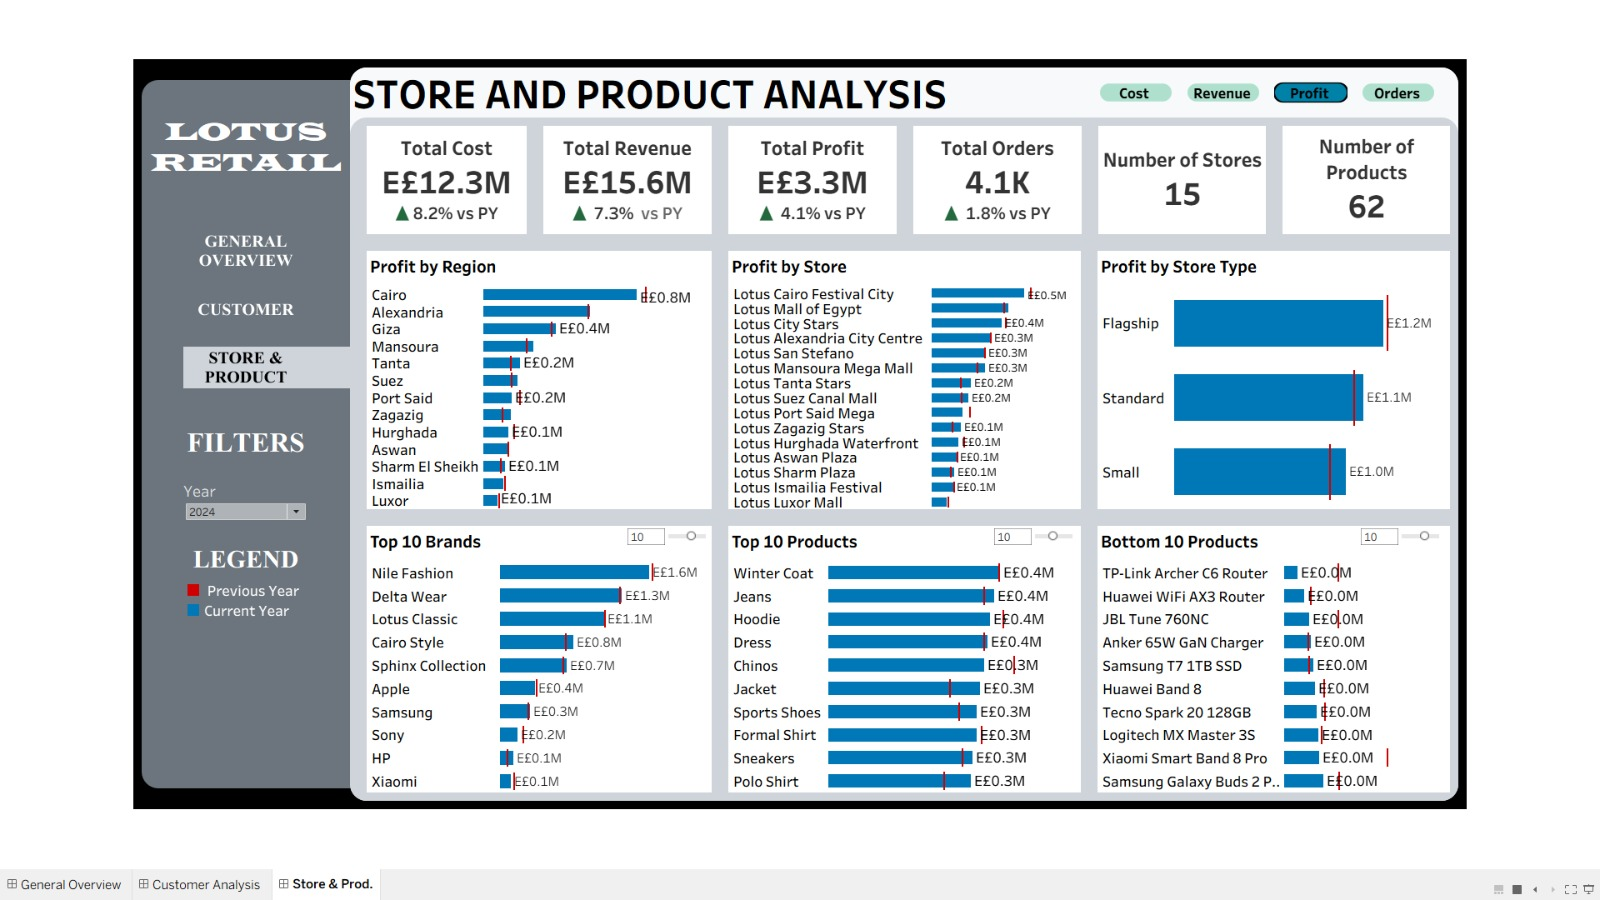

This screenshot's page, from the dashboard's own definition file:
{"tool":"tableau","page":{"name":"Store & Prod.","canvas":[1600,900],"ordinal":2},"visuals":[{"type":"text","box":[260,10,890,60]},{"type":"worksheet","title":"Buttons","mark":"Shape","cols":["Calculation_0874970443321350","Calculation_0874970443321350","Calculation_0874970443321350","Calculation_0874970443321350"],"box":[1150,10,420,60]},{"type":"blank","box":[10,25,250,10]},{"type":"text","box":[10,35,250,140]},{"type":"worksheet","title":"Cost","mark":"Automatic","box":[280,80,192,130]},{"type":"worksheet","title":"Rev.","mark":"Automatic","box":[492,80,202,130]},{"type":"worksheet","title":"Profit","mark":"Automatic","box":[714,80,202,130]},{"type":"worksheet","title":"Orders","mark":"Automatic","box":[936,80,202,130]},{"type":"worksheet","title":"No. of Store","mark":"Automatic","box":[1158,80,201,130]},{"type":"worksheet","title":"No. of Products","mark":"Automatic","box":[1379,80,201,130]},{"type":"blank","box":[10,175,250,30]},{"type":"dashboard-object","box":[60,205,150,50]},{"type":"worksheet","title":"Region Anal.","mark":"Automatic","rows":["city (dim_stores.csv)"],"cols":["Calculation_0373592491970560","Calculation_0373592493252610"],"box":[280,230,414,310]},{"type":"worksheet","title":"Store Anal.","mark":"Automatic","rows":["store_name"],"cols":["Calculation_0373592491970560","Calculation_0373592493252610"],"box":[714,230,423,310]},{"type":"worksheet","title":"Store Type","mark":"Automatic","rows":["store_type"],"cols":["Calculation_0373592491970560","Calculation_0373592493252610"],"box":[1157,230,423,310]},{"type":"blank","box":[10,255,250,20]},{"type":"dashboard-object","box":[60,275,150,50]},{"type":"blank","box":[10,325,250,20]},{"type":"dashboard-object","box":[60,345,200,50]},{"type":"blank","box":[10,395,250,50]},{"type":"text","box":[10,445,250,30]},{"type":"blank","box":[10,475,250,30]},{"type":"parameter","param":"[Parameters].[Parameter 1297182227197959]","box":[60,505,150,50]},{"type":"blank","box":[10,555,250,30]},{"type":"worksheet","title":"Top Brands","mark":"Automatic","rows":["brand"],"cols":["Calculation_0373592491970560","Calculation_0373592493252610"],"box":[280,560,414,320]},{"type":"parameter","param":"[Parameters].[Parameter 1225439447101457]","box":[590,560,100,35]},{"type":"worksheet","title":"Top Products","mark":"Automatic","rows":["product_name_raw"],"cols":["Calculation_0373592491970560","Calculation_0373592493252610"],"box":[714,560,423,320]},{"type":"parameter","param":"[Parameters].[Parameter 1225439438880779]","box":[1030,560,100,35]},{"type":"worksheet","title":"Bottom Products","mark":"Automatic","rows":["product_name_raw"],"cols":["Calculation_0373592491970560","Calculation_0373592493252610"],"box":[1157,560,423,320]},{"type":"parameter","param":"[Parameters].[Parameter 1225439448928274]","box":[1470,560,100,35]},{"type":"text","box":[10,585,250,30]},{"type":"blank","box":[10,615,250,10]},{"type":"legend","title":"Top Brands","param":"[federated.0mt75gr1jol0vg19zrq0202gwl9p].[:Measure Names]","box":[60,625,150,50]}]}

Visuals, with their boxes on the page's 1600x900 design canvas (x1, y1, x2, y2). These are canvas units, not pixel positions in the 1600x900 screenshot, which may show the page scaled, cropped or inside an application window:
text: bbox=(260, 10, 1150, 70)
"Buttons" worksheet (Shape marks): bbox=(1150, 10, 1570, 70)
blank: bbox=(10, 25, 260, 35)
text: bbox=(10, 35, 260, 175)
"Cost" worksheet: bbox=(280, 80, 472, 210)
"Rev." worksheet: bbox=(492, 80, 694, 210)
"Profit" worksheet: bbox=(714, 80, 916, 210)
"Orders" worksheet: bbox=(936, 80, 1138, 210)
"No. of Store" worksheet: bbox=(1158, 80, 1359, 210)
"No. of Products" worksheet: bbox=(1379, 80, 1580, 210)
blank: bbox=(10, 175, 260, 205)
dashboard-object: bbox=(60, 205, 210, 255)
"Region Anal." worksheet: bbox=(280, 230, 694, 540)
"Store Anal." worksheet: bbox=(714, 230, 1137, 540)
"Store Type" worksheet: bbox=(1157, 230, 1580, 540)
blank: bbox=(10, 255, 260, 275)
dashboard-object: bbox=(60, 275, 210, 325)
blank: bbox=(10, 325, 260, 345)
dashboard-object: bbox=(60, 345, 260, 395)
blank: bbox=(10, 395, 260, 445)
text: bbox=(10, 445, 260, 475)
blank: bbox=(10, 475, 260, 505)
parameter: bbox=(60, 505, 210, 555)
blank: bbox=(10, 555, 260, 585)
"Top Brands" worksheet: bbox=(280, 560, 694, 880)
parameter: bbox=(590, 560, 690, 595)
"Top Products" worksheet: bbox=(714, 560, 1137, 880)
parameter: bbox=(1030, 560, 1130, 595)
"Bottom Products" worksheet: bbox=(1157, 560, 1580, 880)
parameter: bbox=(1470, 560, 1570, 595)
text: bbox=(10, 585, 260, 615)
blank: bbox=(10, 615, 260, 625)
"Top Brands" legend: bbox=(60, 625, 210, 675)
